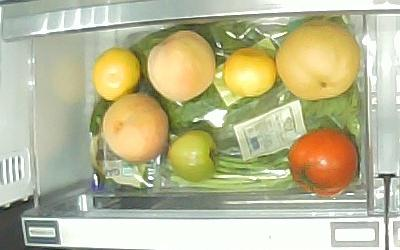peach: (146, 29, 214, 102), (101, 94, 171, 163)
pear: (276, 18, 362, 102)
tangerine: (222, 46, 277, 98), (93, 46, 141, 101)
tomato: (288, 128, 360, 197), (167, 129, 216, 182)
